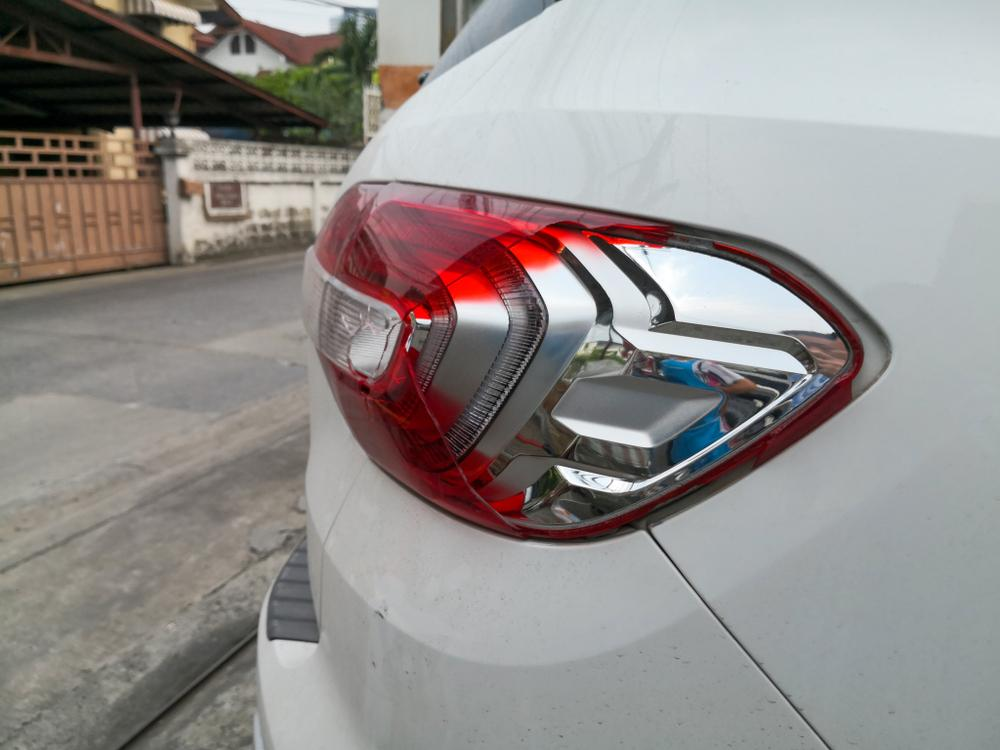lamp broken: (306, 180, 875, 541)
